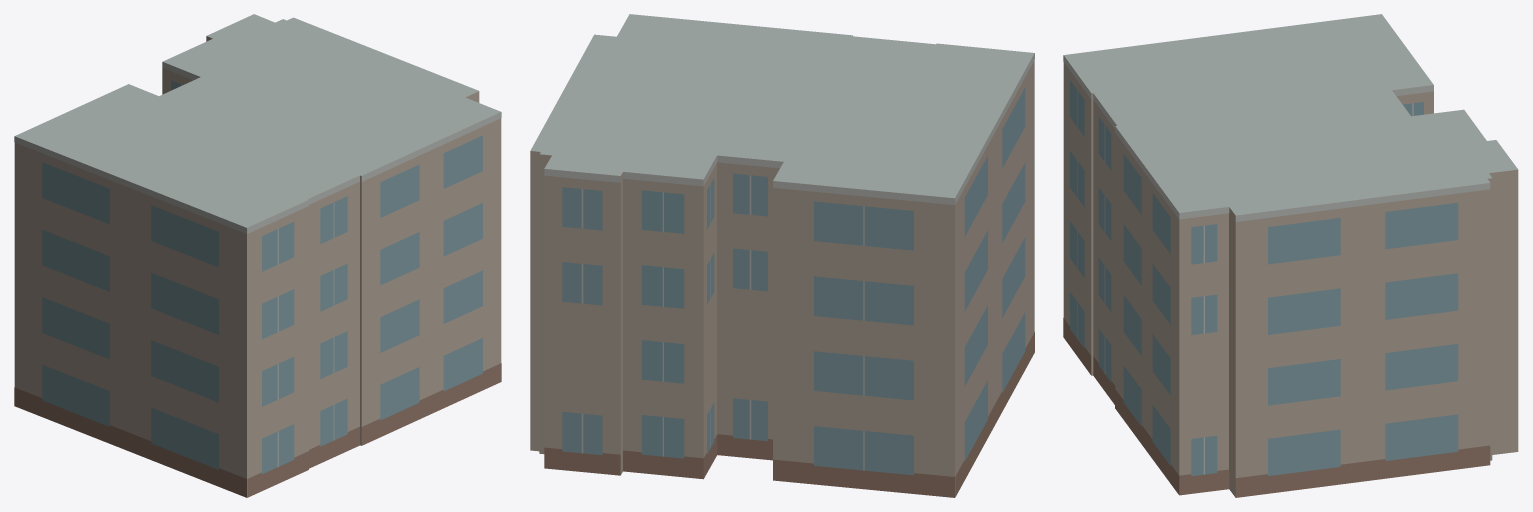
File: survey-upis-32924023.glb
3 views of the same model, side by side, from view 1: azimuth 30°, elevation 25°; view 2: azimuth 150°, elevation 25°; view 3: azimuth 270°, elevation 25° (orthographic). The views are drawn at different scales.
Visible parts, largest first — view 1: survey-upis-32924023.tmp; view 2: survey-upis-32924023.tmp; view 3: survey-upis-32924023.tmp.
Boxes of the visible parts, x1=… form: survey-upis-32924023.tmp: x1=14, y1=14, x2=501, y2=497; survey-upis-32924023.tmp: x1=530, y1=14, x2=1034, y2=497; survey-upis-32924023.tmp: x1=1063, y1=14, x2=1518, y2=497.
Size of the model in its own units: 16.4 by 10.7 by 15.64.
